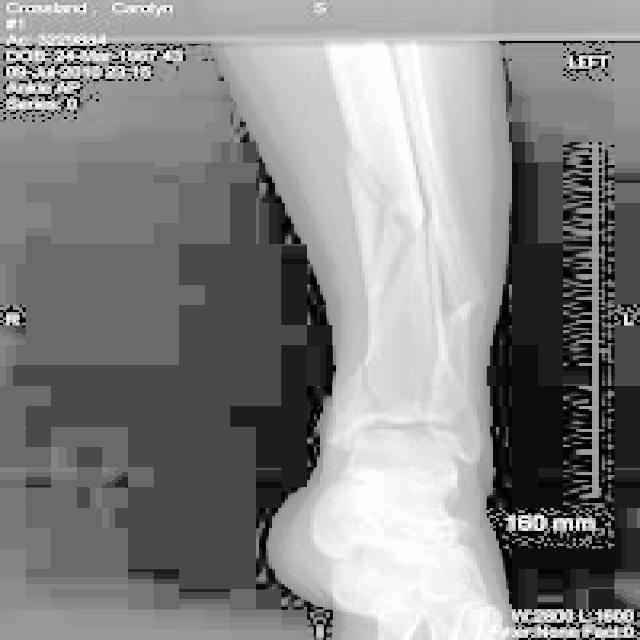spiral fracture: (337, 142, 393, 278), (385, 120, 450, 227)
